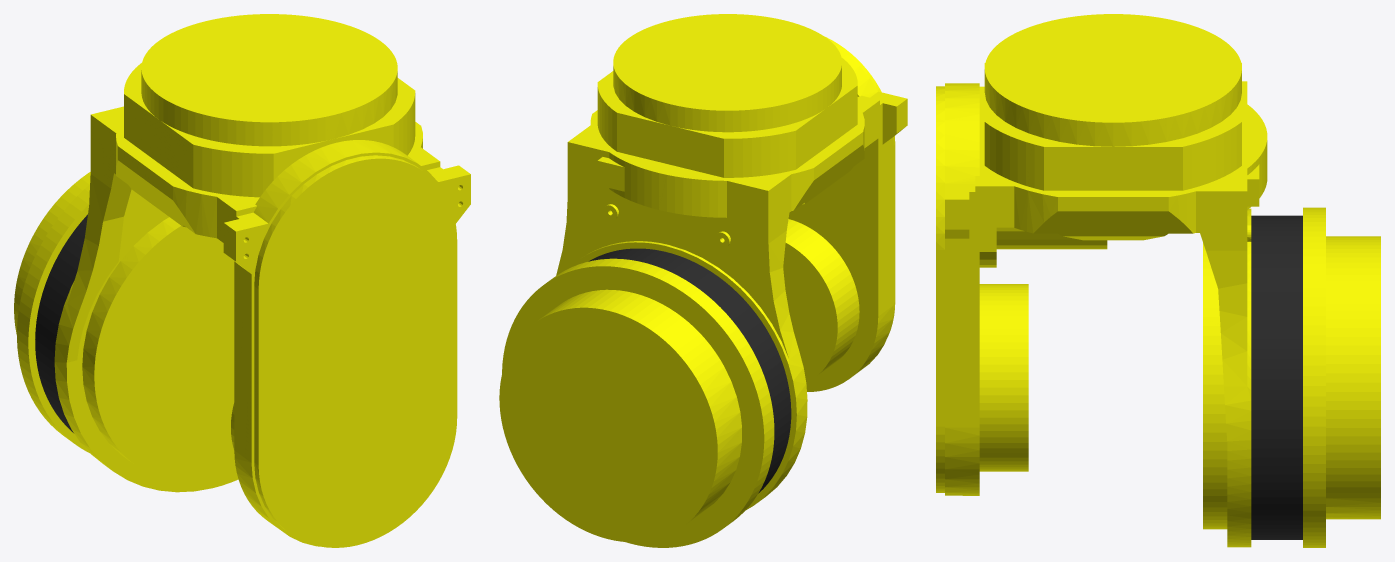
3 renders of one model, left to right at view 1: azimuth 30°, elevation 25°; view 2: azimuth 150°, elevation 25°; view 3: azimuth 270°, elevation 25°, orthographic. The views are drawn at different scales.
Visible parts, largest first — view 1: node; view 2: node; view 3: node.
Boxes of the visible parts, <box> form: node: <box>14,14,470,547</box>; node: <box>499,14,907,547</box>; node: <box>936,14,1380,547</box>.
Size of the model in its own units: 562 by 845 by 735.
